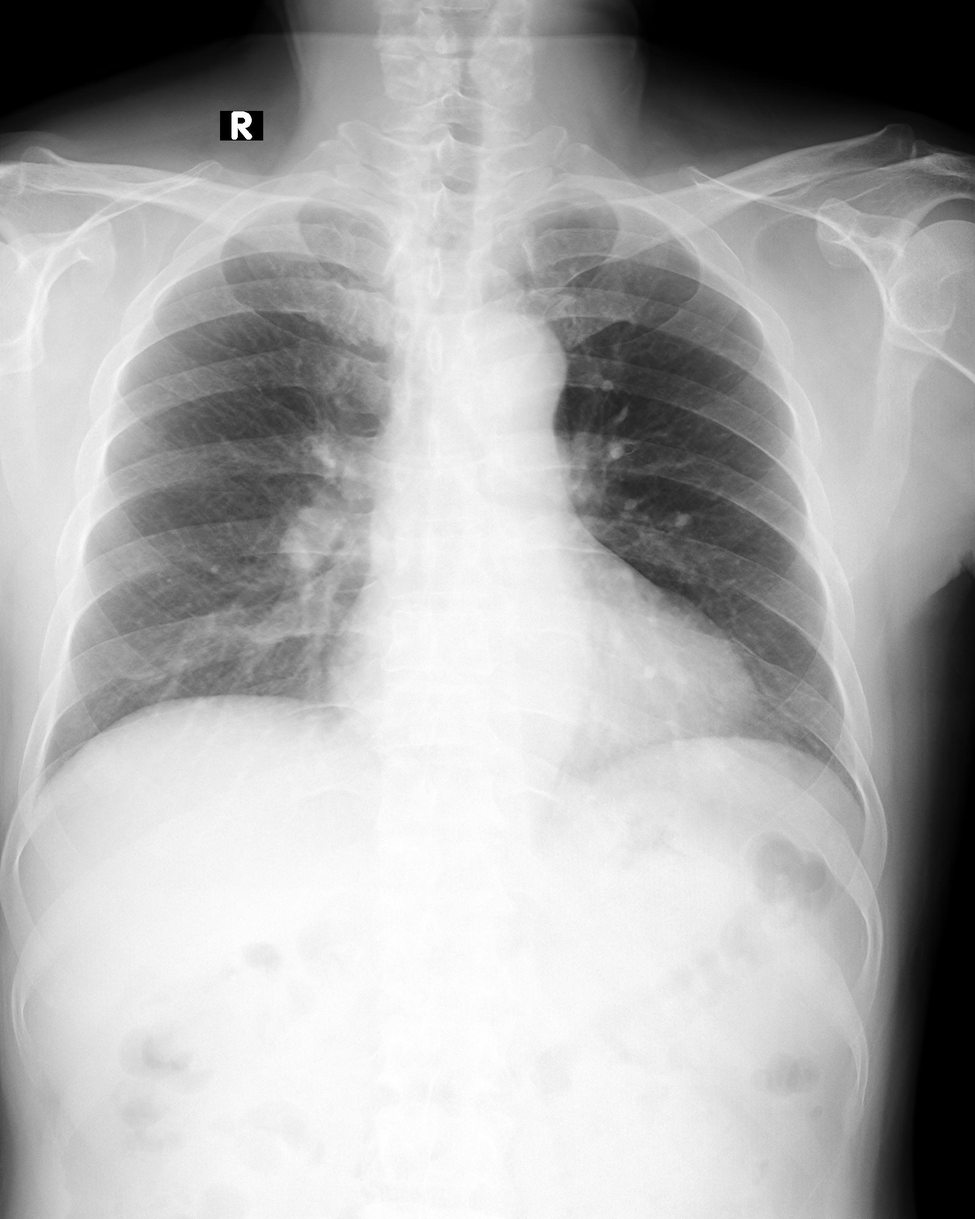Aortic enlargement: (448, 310, 569, 422)
Cardiomegaly: (324, 622, 762, 755)
